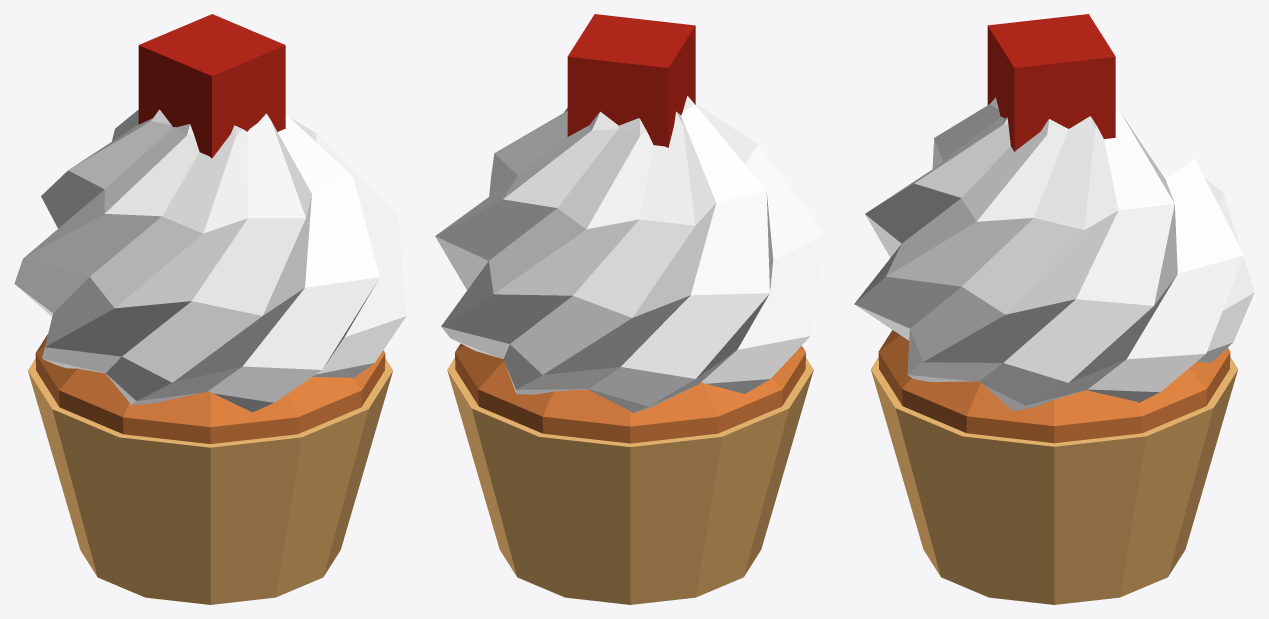
The model's file is CandylandCupcake.fbx.
The picture shows the model from 3 angles, left to right: view 1: azimuth 30°, elevation 25°; view 2: azimuth 150°, elevation 25°; view 3: azimuth 270°, elevation 25°; orthographic projection.
Parts seen in each view (by area): view 1: CandylandCupcake; view 2: CandylandCupcake; view 3: CandylandCupcake.
Boxes of the visible parts, box(x1,y1,x2,y2) form: CandylandCupcake: box(14, 14, 406, 604); CandylandCupcake: box(435, 14, 825, 604); CandylandCupcake: box(854, 14, 1254, 604).
Size of the model in its own units: 0.4944 by 0.6925 by 0.4944.
